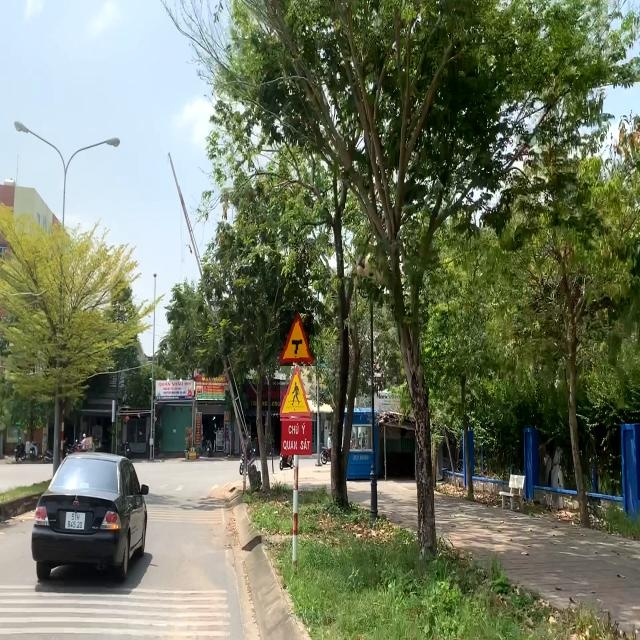bien_nguy_hiem: (280, 366, 316, 421), (280, 310, 314, 366)
